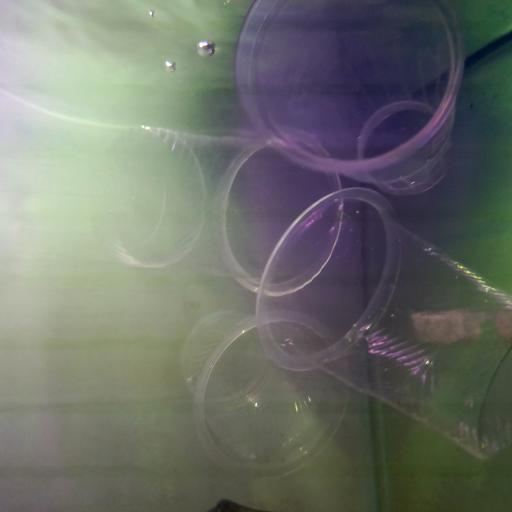plastic_cup: (253, 186, 512, 462), (233, 0, 466, 196), (94, 125, 342, 298), (180, 308, 352, 483)
